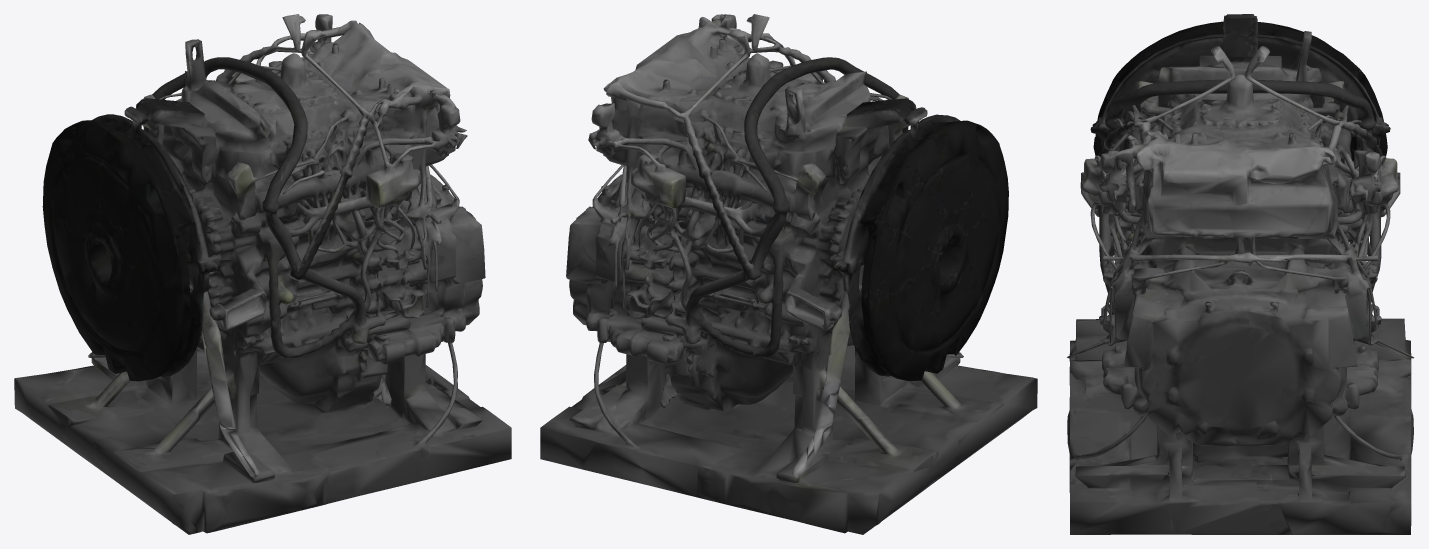
File: motor-isuzu-4hk1.glb
3 renders of one model, left to right at view 1: azimuth 30°, elevation 25°; view 2: azimuth 150°, elevation 25°; view 3: azimuth 270°, elevation 25°, orthographic. The views are drawn at different scales.
Size of the model in its own units: 1.7 by 1.9 by 1.42.
1 material, 1 textured.
